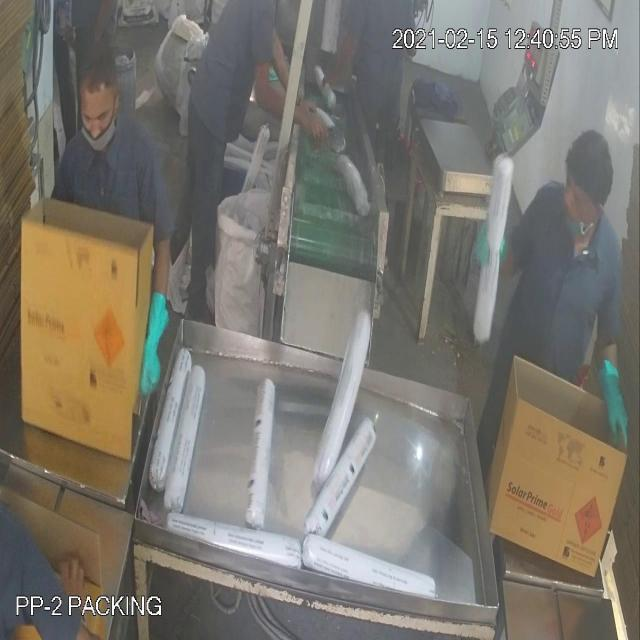No_Gloves: (48, 86, 612, 398)
